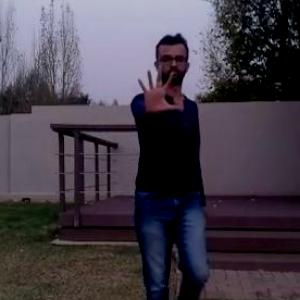follow_hand: (132, 62, 184, 116)
